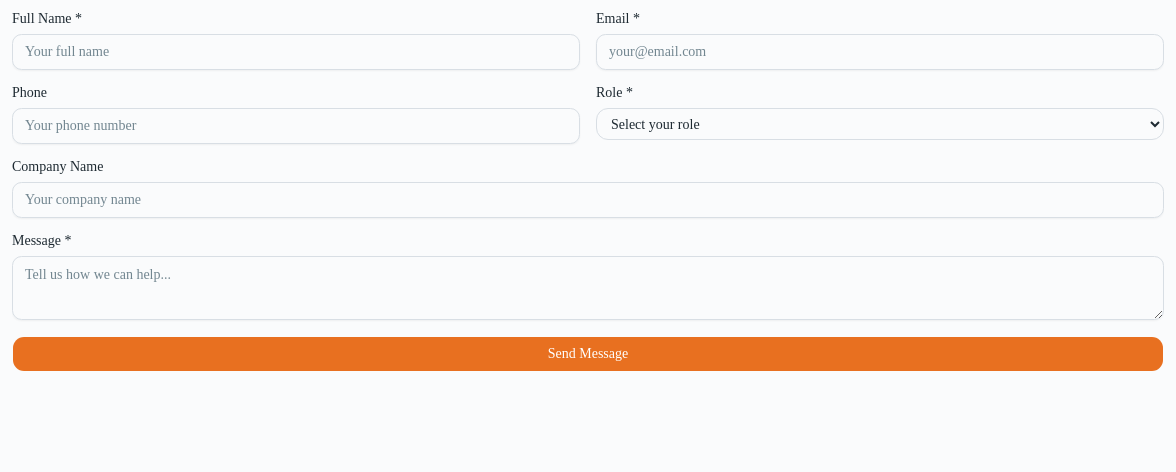
it: ContactForm › shows validation errors when submitting empty form
Click the button "Send Message" at (588, 354), box [12,336,1164,372]
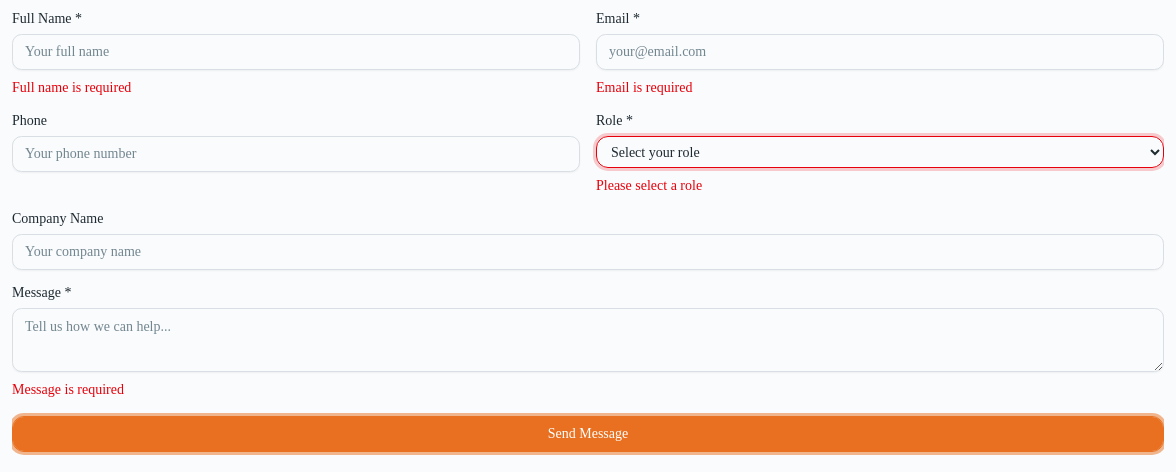
Check: the text "Full name is required" is shown, box [12,80,131,95]
Check: the text "Email is required" is shown, box [596,80,692,95]
Check: the text "Please select a role" is shown, box [596,178,702,193]
